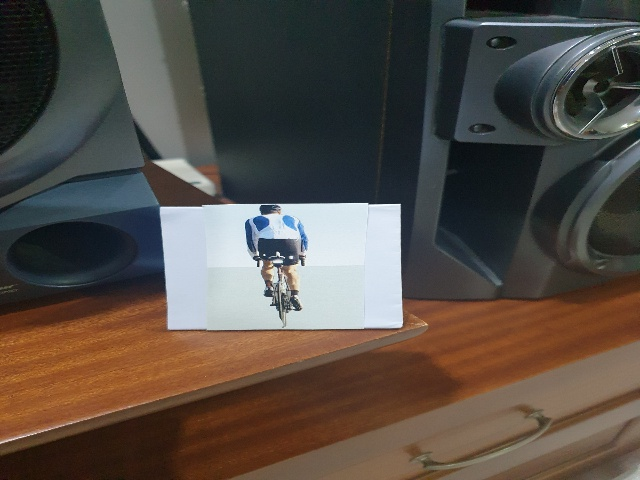Cyclist: (234, 203, 329, 326)
